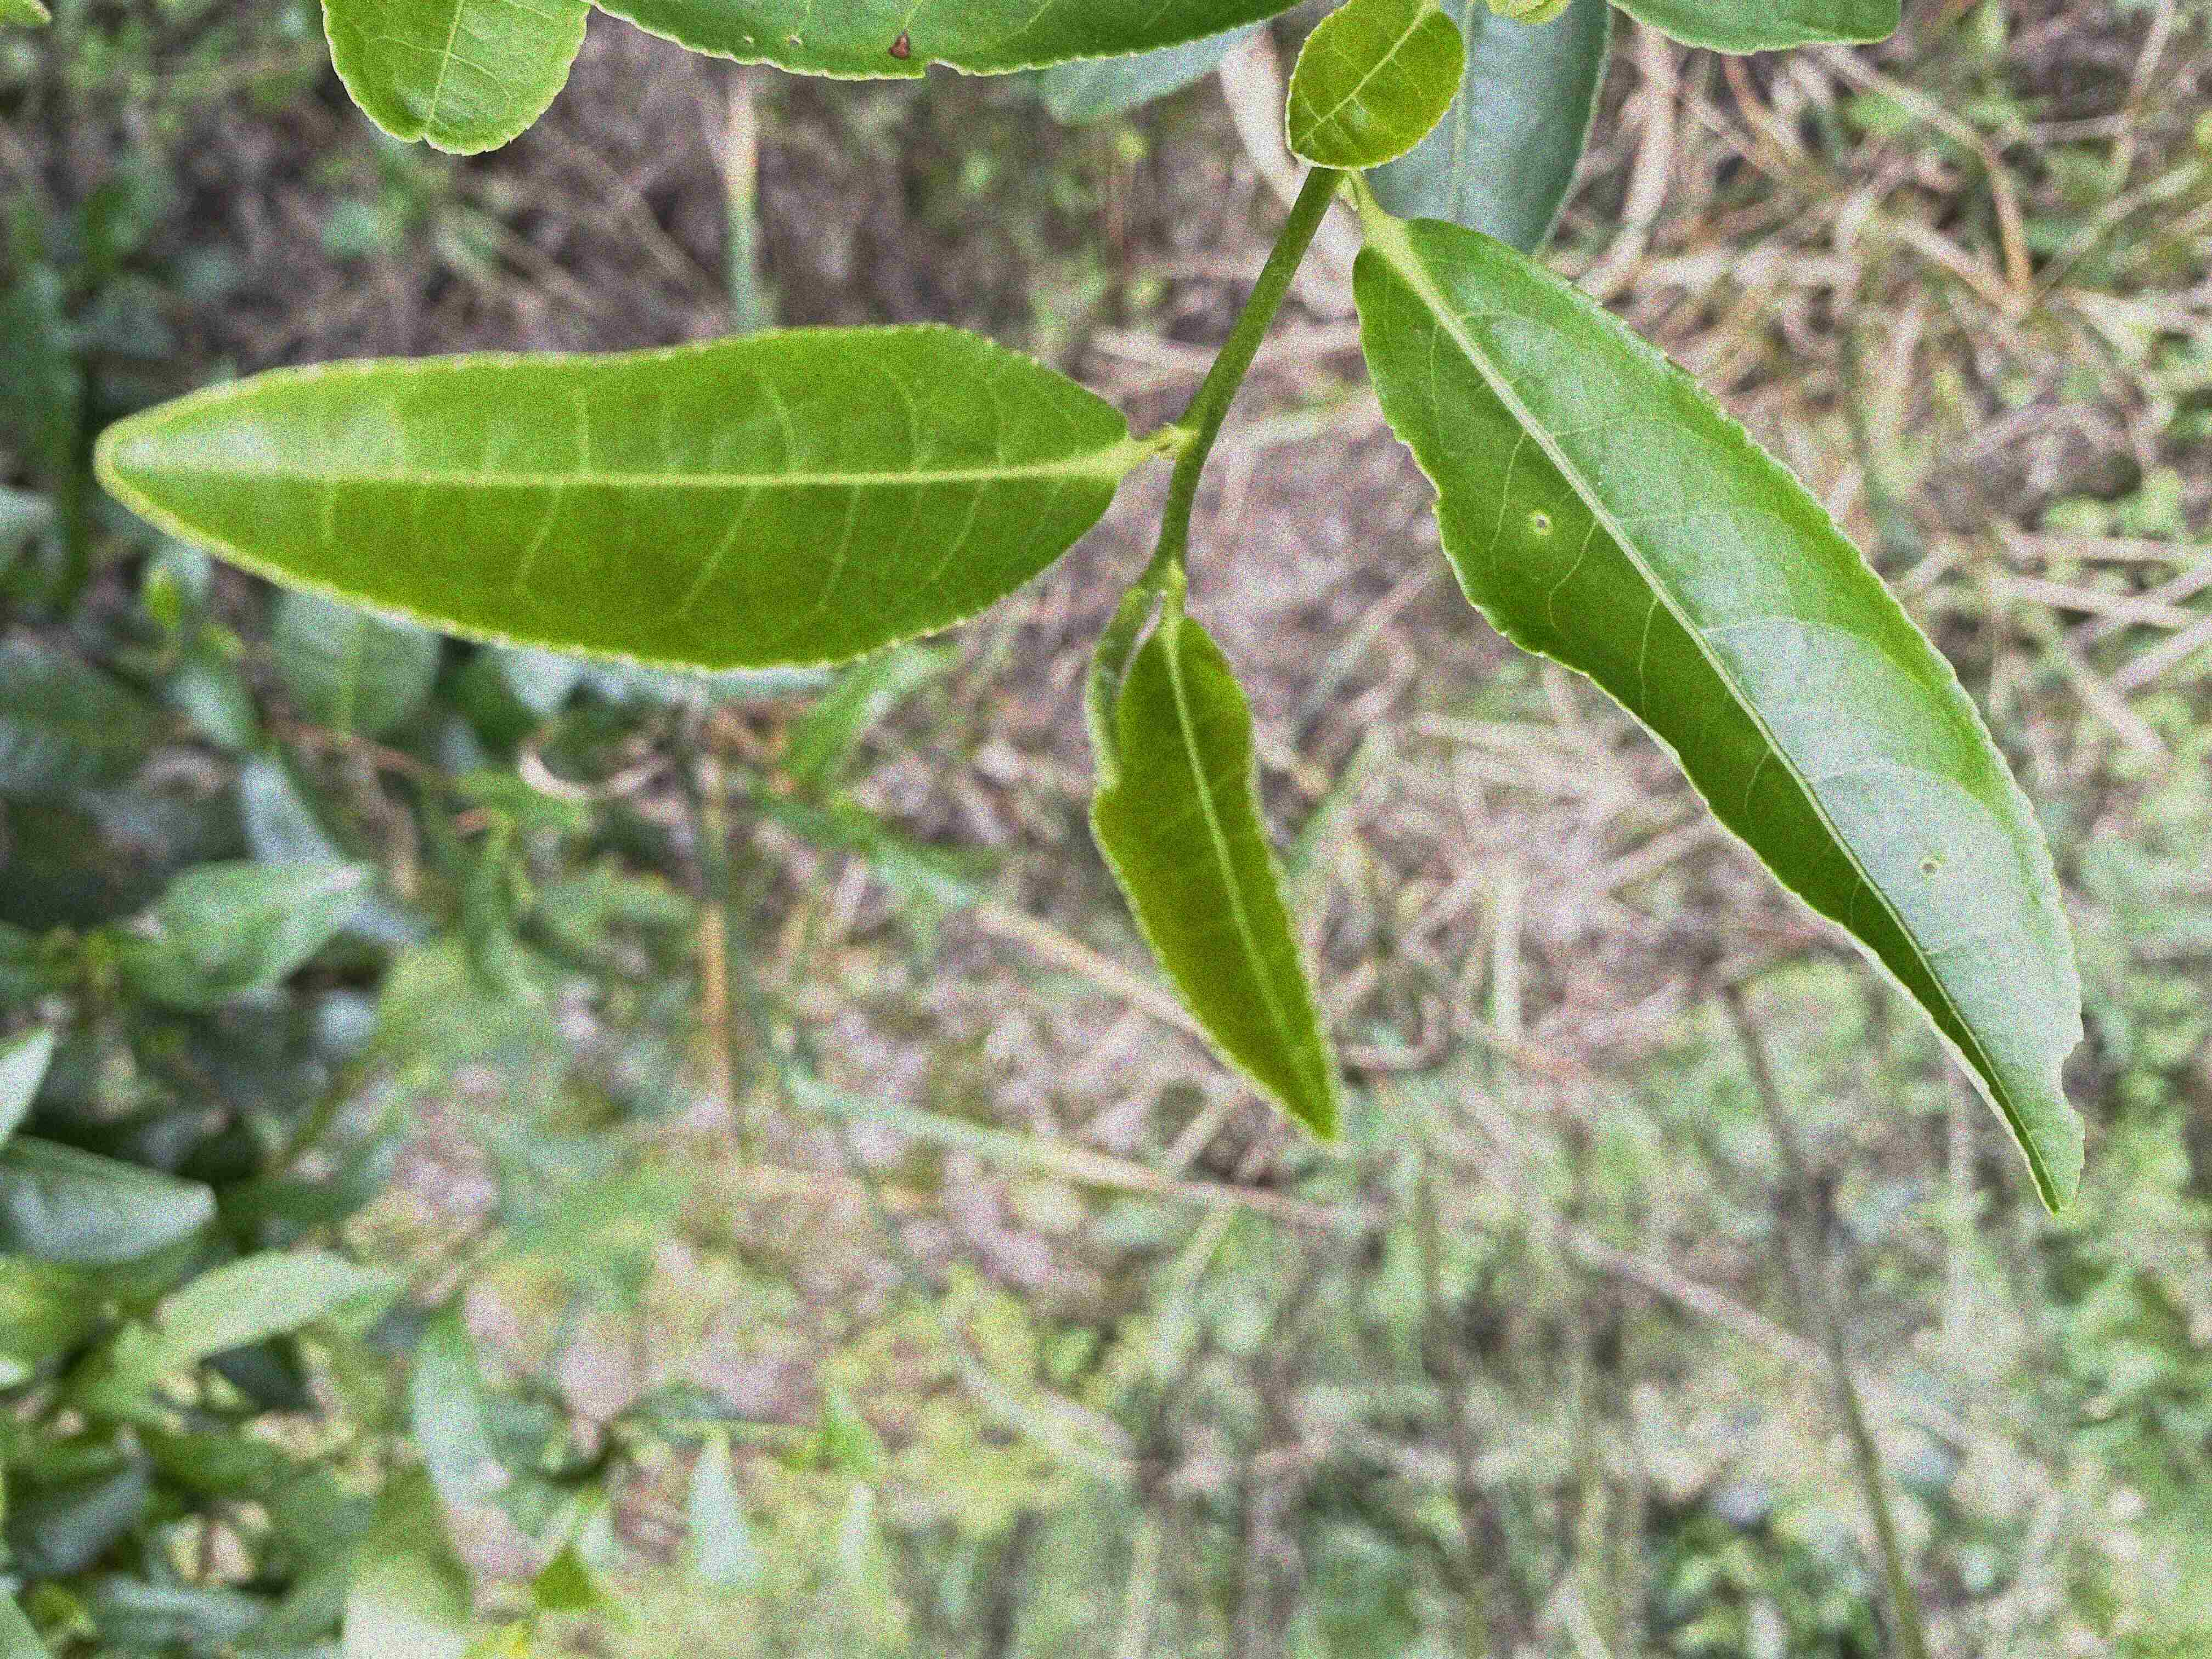chihuo_low: (1350, 214, 2088, 1215)
healthy: (94, 317, 1130, 678), (1094, 608, 1339, 1148)
